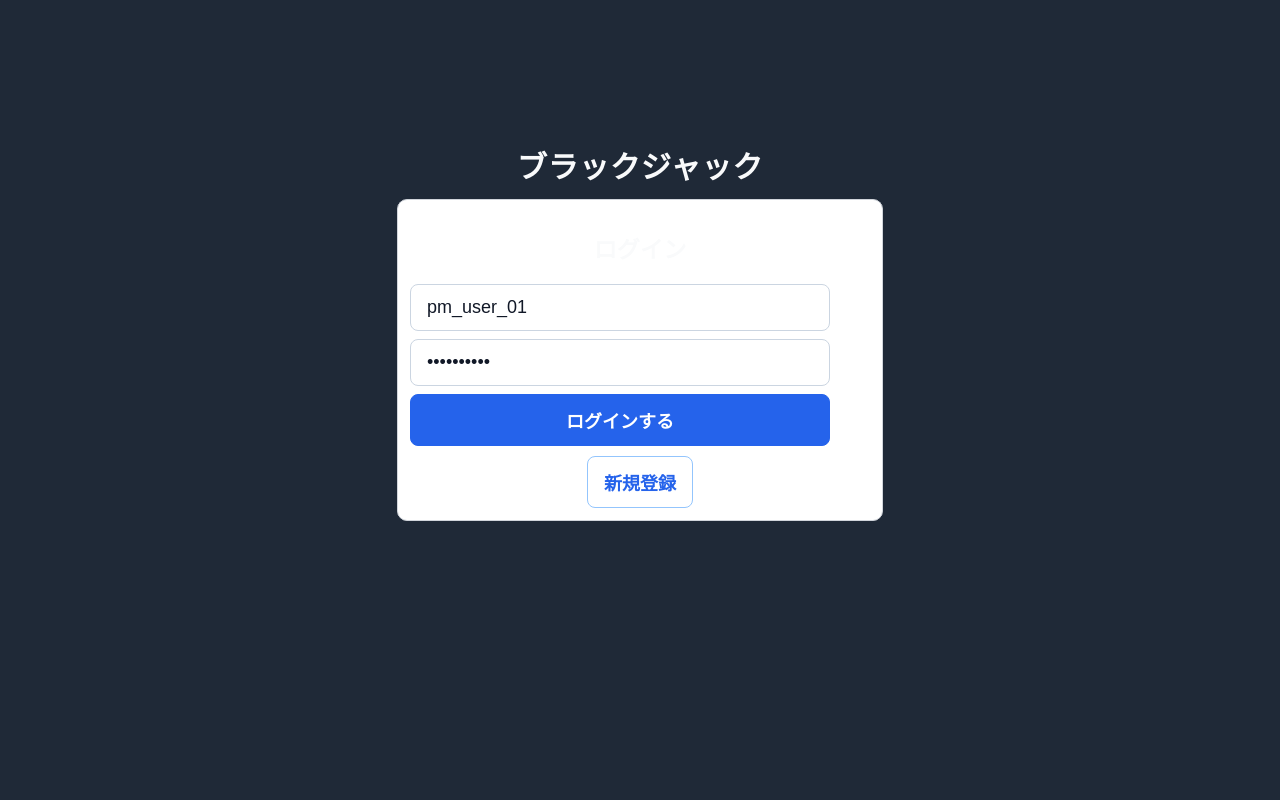
Scenario: App › toggles to signup and submits successfully
What coordinates should you click on to do the following:
click the button "新規登録"
I would click on:
 (640, 482)
Its box is top-left (587, 456), bottom-right (693, 508).
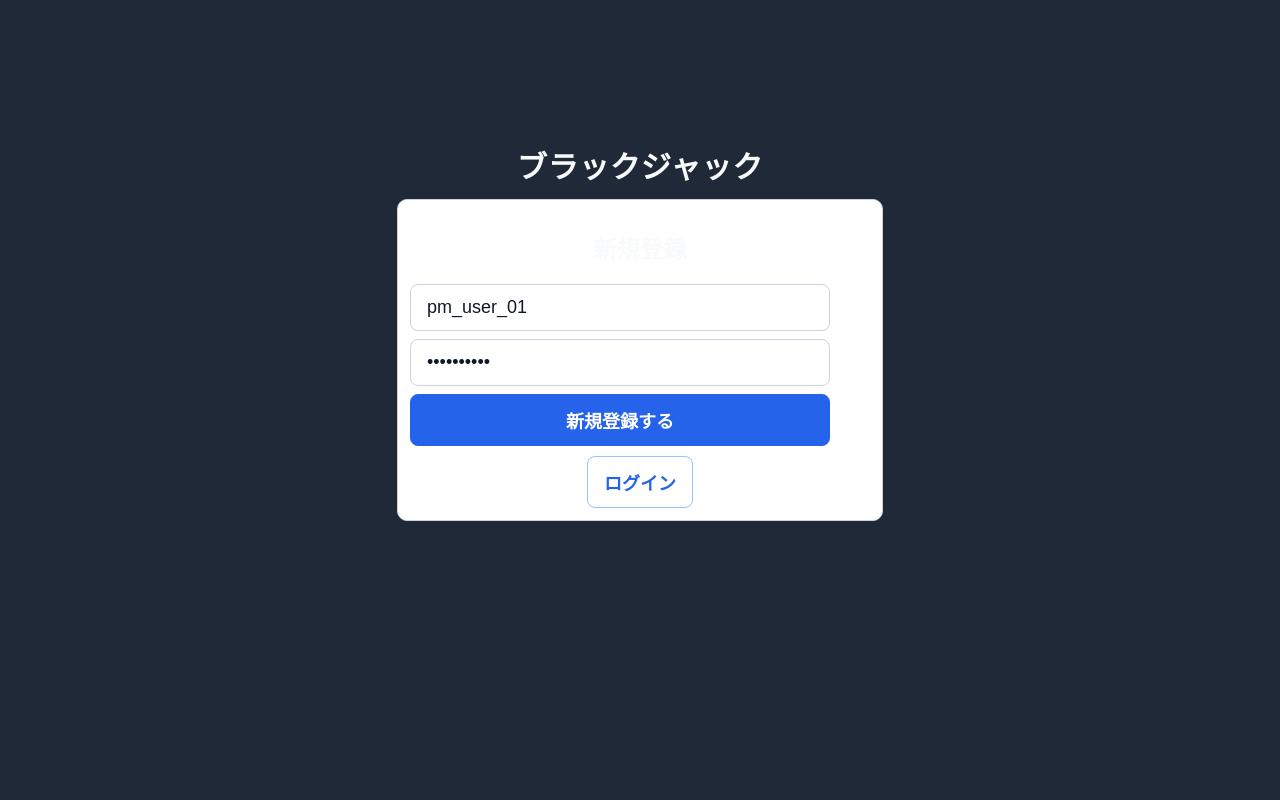
What coordinates should you click on to do the following:
click the button "新規登録する"
I would click on:
 (620, 420)
Its box is top-left (410, 394), bottom-right (830, 446).
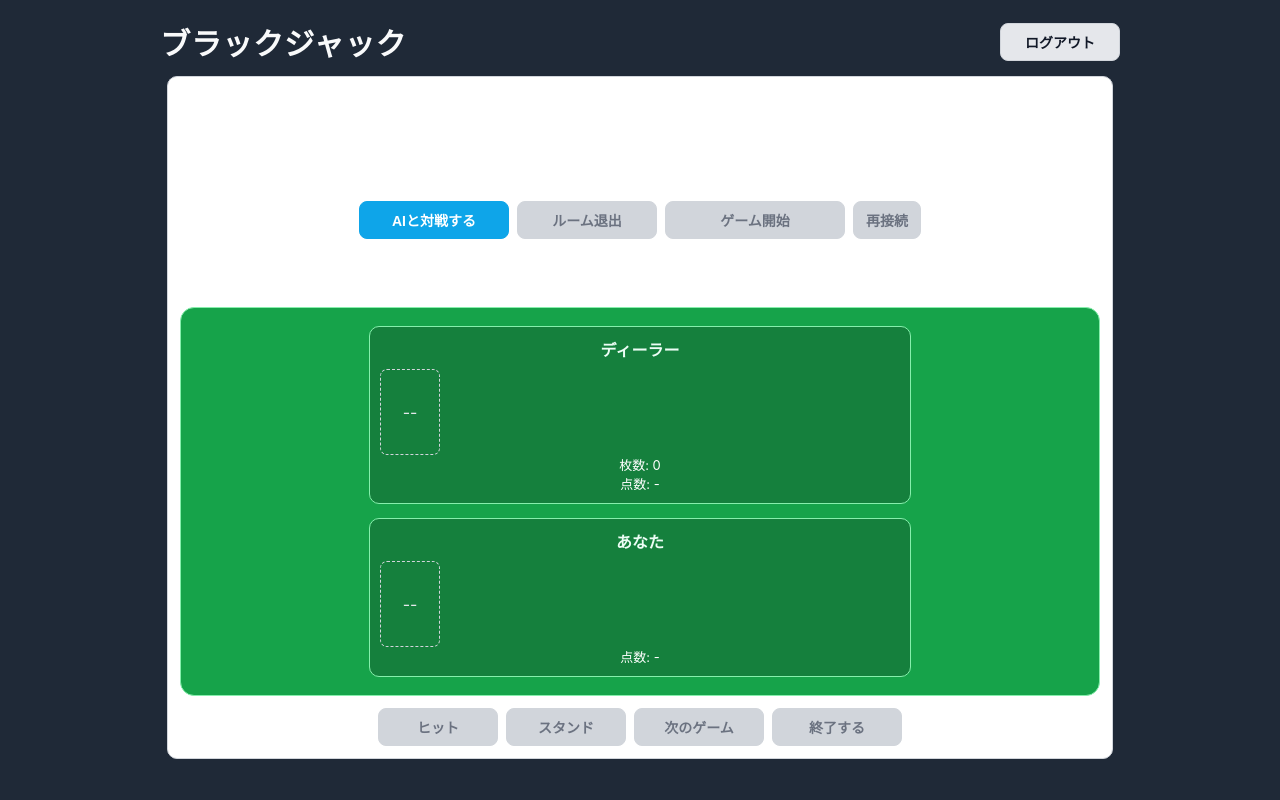
Now the button "ログアウト" is shown, box top-left (1000, 23), bottom-right (1120, 61)
